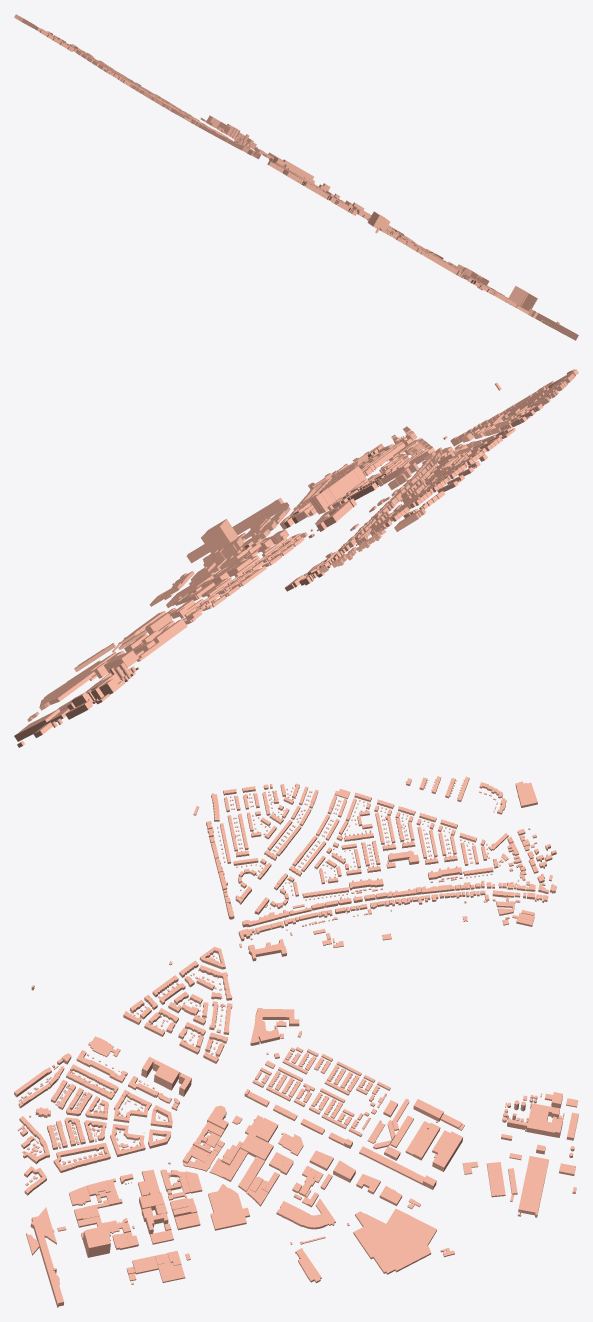
3 renders of one model, top to bottom at view 1: azimuth 30°, elevation 25°; view 2: azimuth 150°, elevation 25°; view 3: azimuth 270°, elevation 25°, orthographic. The views are drawn at different scales.
Bounding box in the file's own units: 1078 × 768 × 1216.
